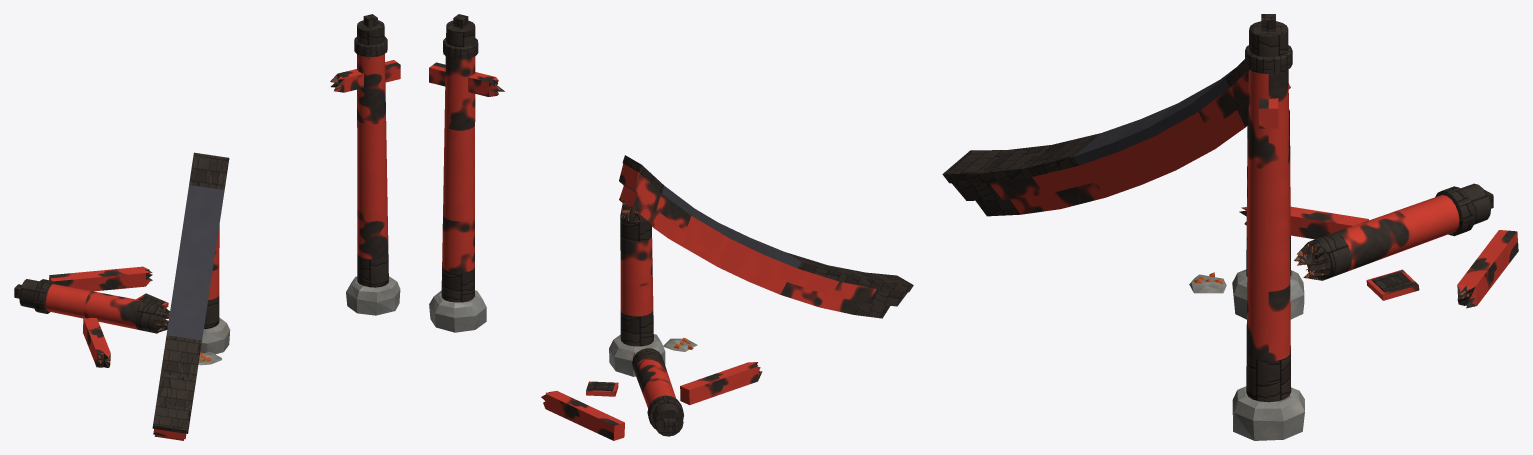
File: torii_broken.fbx
The picture shows the model from 3 angles, left to right: view 1: azimuth 30°, elevation 25°; view 2: azimuth 150°, elevation 25°; view 3: azimuth 270°, elevation 25°; orthographic projection. The views are drawn at different scales.
Parts seen in each view (by area): view 1: torii_broken_Fallen, torii_broken_Pillars, torii_broken_Stone; view 2: torii_broken_Fallen, torii_broken_Pillars, torii_broken_Stone; view 3: torii_broken_Fallen, torii_broken_Pillars, torii_broken_Stone.
Part boxes in pixels (<box>): torii_broken_Fallen: <box>14,152,229,440</box>; torii_broken_Pillars: <box>204,14,400,329</box>; torii_broken_Stone: <box>200,276,400,354</box>; torii_broken_Fallen: <box>541,155,913,440</box>; torii_broken_Pillars: <box>429,14,653,346</box>; torii_broken_Stone: <box>429,290,665,376</box>; torii_broken_Fallen: <box>942,59,1518,308</box>; torii_broken_Pillars: <box>1245,14,1292,402</box>; torii_broken_Stone: <box>1232,269,1304,440</box>.
Bounding box in the file's own units: 24.74 × 19.48 × 24.97.
1 material, 1 textured.
